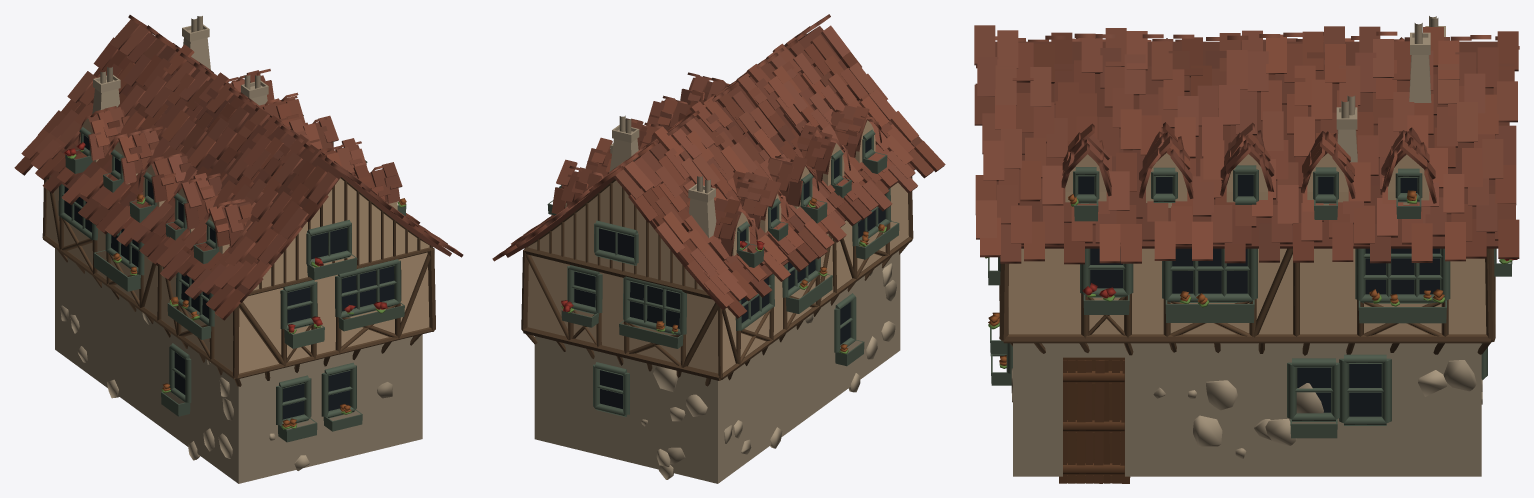
The model's file is house_33.glb.
3 renders of one model, left to right at view 1: azimuth 30°, elevation 25°; view 2: azimuth 150°, elevation 25°; view 3: azimuth 270°, elevation 25°, orthographic. The views are drawn at different scales.
Visible parts, largest first — view 1: house_33; view 2: house_33; view 3: house_33.
Boxes of the visible parts, box(x1,y1,x2,y2) form: house_33: box(14, 15, 463, 483); house_33: box(492, 14, 945, 483); house_33: box(974, 16, 1519, 483).
Size of the model in its own units: 5.65 by 7.27 by 8.44.
